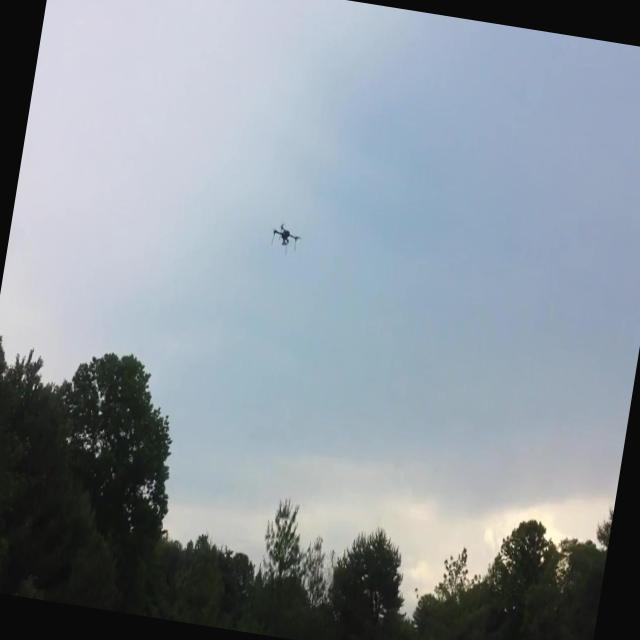drone: (268, 218, 304, 258)
